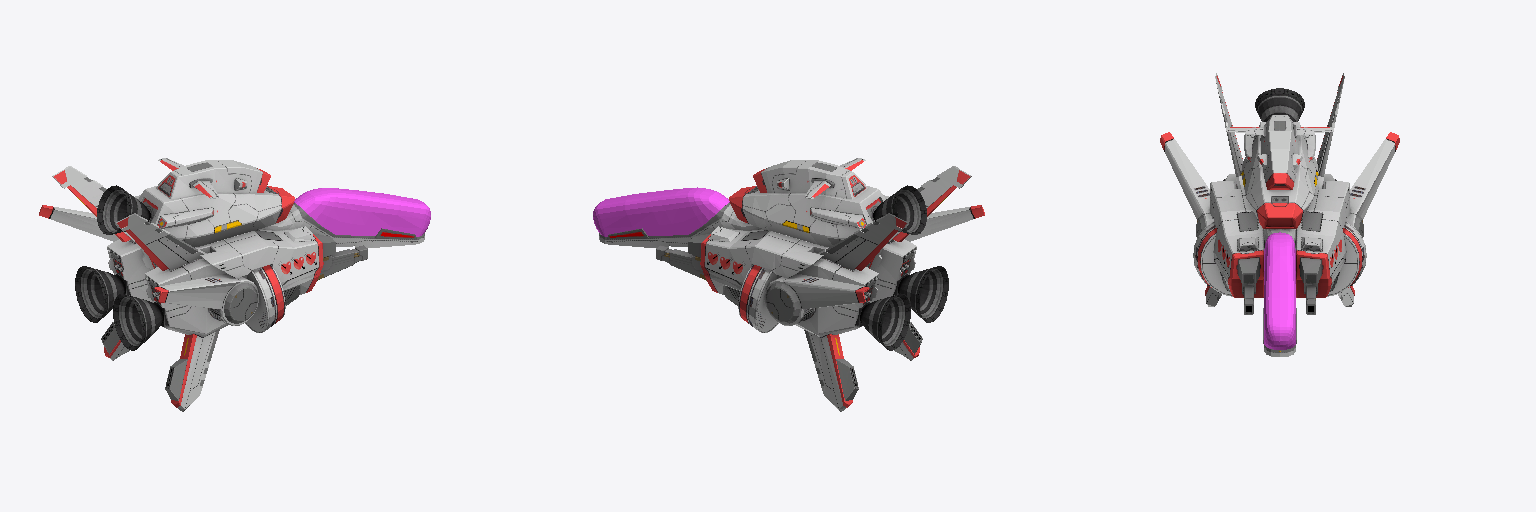
The picture shows the model from 3 angles: view 1: azimuth 30°, elevation 25°; view 2: azimuth 150°, elevation 25°; view 3: azimuth 270°, elevation 25°; orthographic projection.
Parts seen in each view (by area): view 1: obj_027_00.mo_obj_027_00.md; view 2: obj_027_00.mo_obj_027_00.md; view 3: obj_027_00.mo_obj_027_00.md.
Part boxes in pixels (x1,y1,x2,y2): obj_027_00.mo_obj_027_00.md: (39,158,430,411); obj_027_00.mo_obj_027_00.md: (593,158,984,411); obj_027_00.mo_obj_027_00.md: (1160,73,1399,356).
Bounding box in the file's own units: 0.8392 × 0.485 × 0.5056.
Materials: 1 (1 with a texture image).